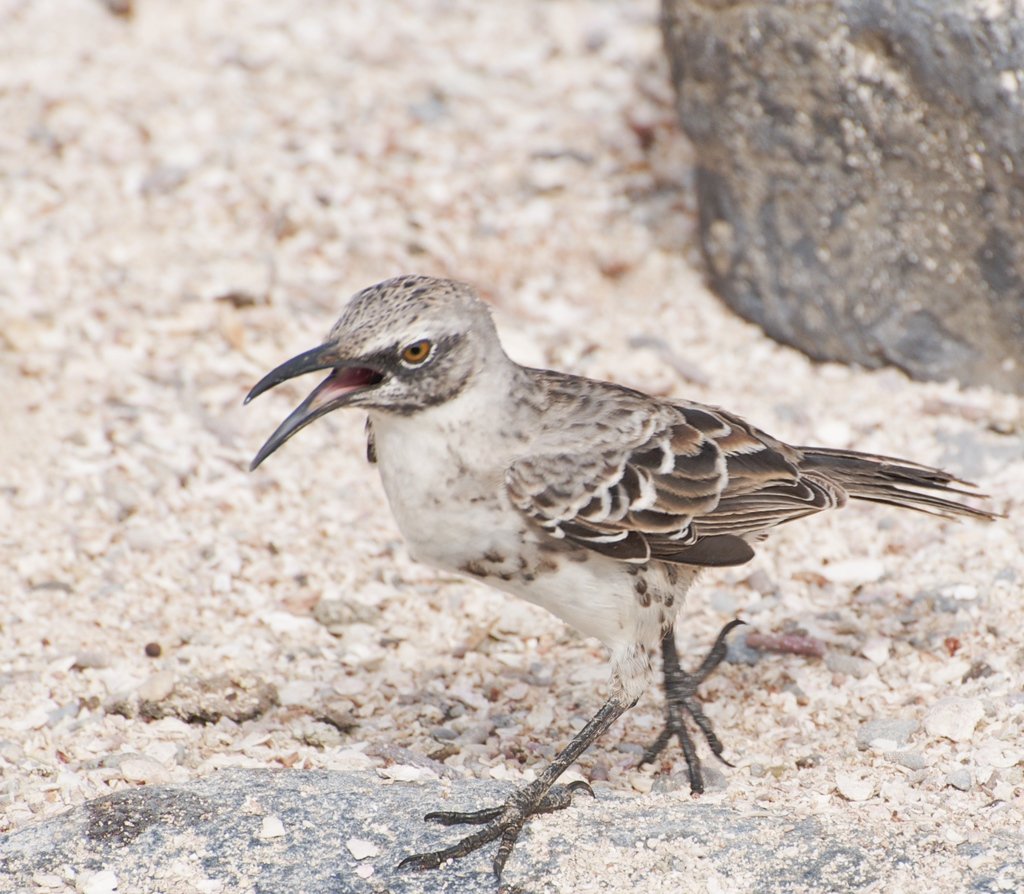Bird: (242, 273, 1012, 885)
